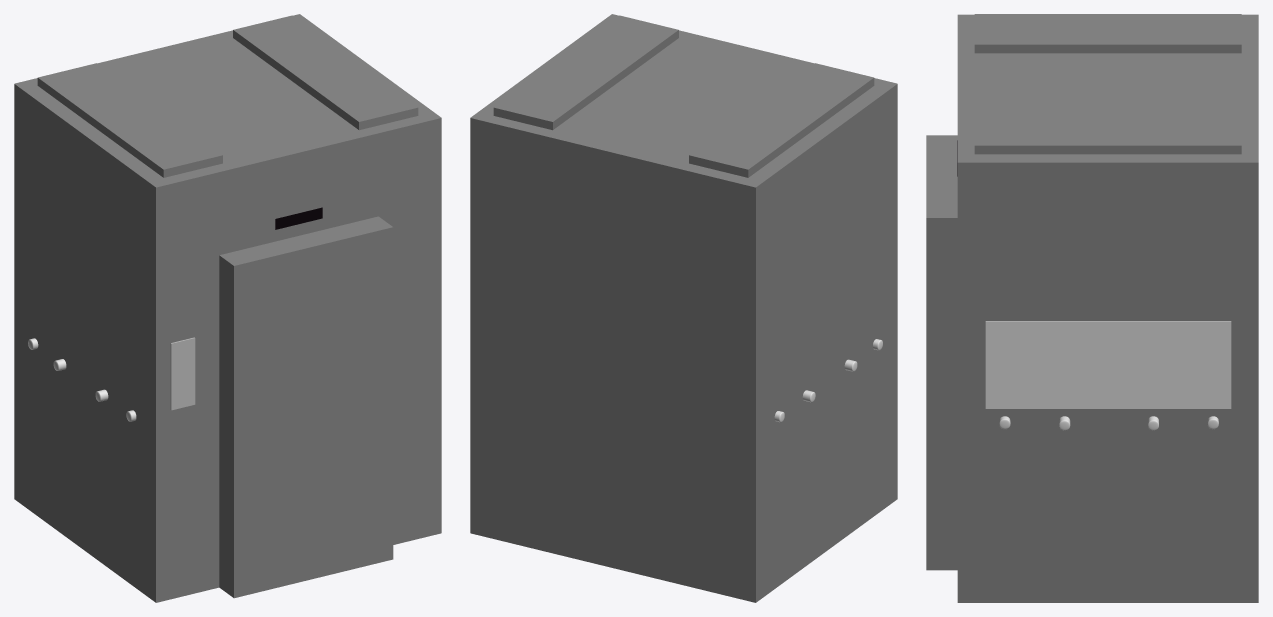
The model's file is Elevator 1.fbx.
The picture shows the model from 3 angles, left to right: view 1: azimuth 30°, elevation 25°; view 2: azimuth 150°, elevation 25°; view 3: azimuth 270°, elevation 25°; orthographic projection. The views are drawn at different scales.
Visible parts, largest first — view 1: Elevator, Door2, Door1, Button; view 2: Elevator; view 3: Elevator, Mirror, Door1, Door2, Handle.
Part boxes in pixels (x1=…): Elevator: x1=14, y1=14, x2=441, y2=602; Door2: x1=226, y1=242, x2=313, y2=598; Door1: x1=307, y1=222, x2=393, y2=578; Button: x1=170, y1=337, x2=195, y2=410; Elevator: x1=470, y1=14, x2=897, y2=602; Elevator: x1=940, y1=14, x2=1258, y2=602; Mirror: x1=985, y1=321, x2=1231, y2=408; Door1: x1=926, y1=176, x2=942, y2=570; Door2: x1=926, y1=135, x2=941, y2=176; Handle: x1=999, y1=416, x2=1218, y2=430.
Bounding box in the file's own units: 191 × 255 × 171.
9 materials, 3 textured.
